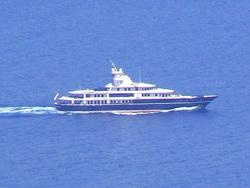yacht: (55, 61, 217, 114)
